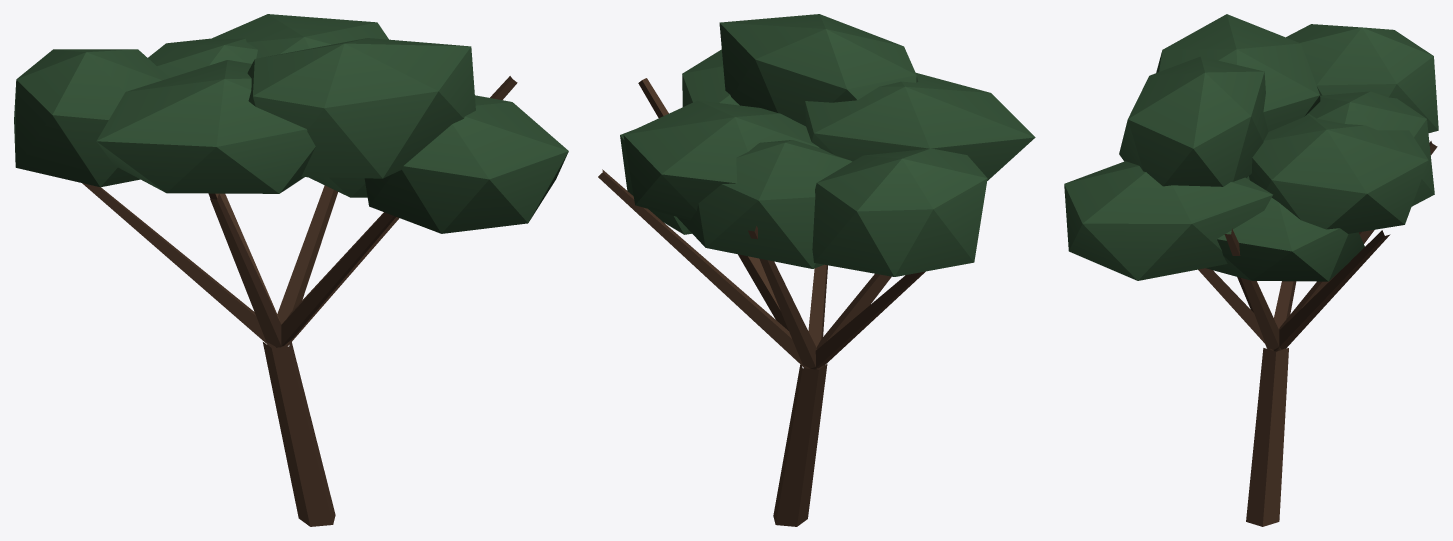
The model's file is arvore_jardim.glb.
3 views of the same model, side by side, from view 1: azimuth 30°, elevation 25°; view 2: azimuth 150°, elevation 25°; view 3: azimuth 270°, elevation 25° (orthographic). The views are drawn at different scales.
Visible parts, largest first — view 1: Malha_0; view 2: Malha_0; view 3: Malha_0.
Part boxes in pixels (x1,y1,x2,y2): Malha_0: [14, 14, 568, 526]; Malha_0: [598, 14, 1035, 526]; Malha_0: [1064, 14, 1438, 526].
Size of the model in its own units: 3.25 by 3.63 by 2.77.
